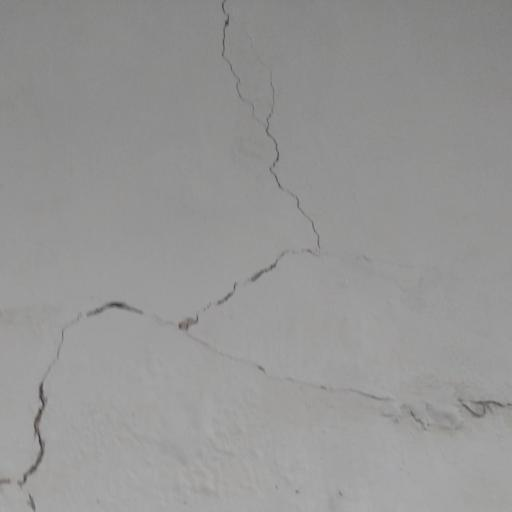minor_crack: (12, 0, 401, 512)
